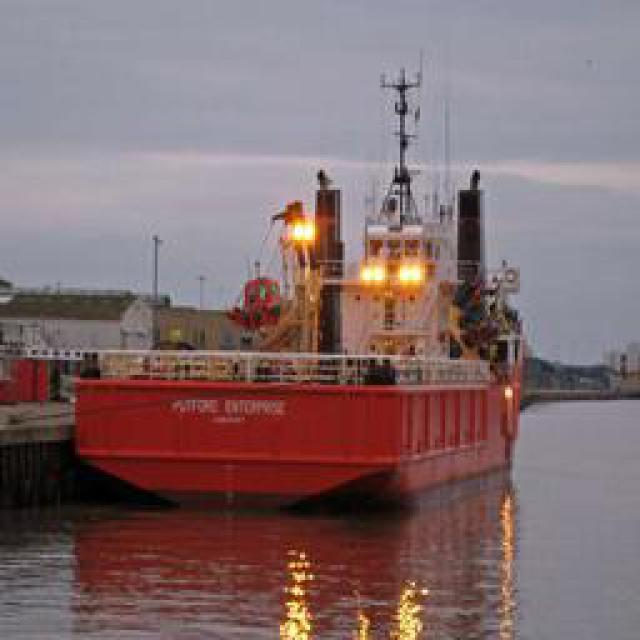Ship: (69, 106, 554, 491)
